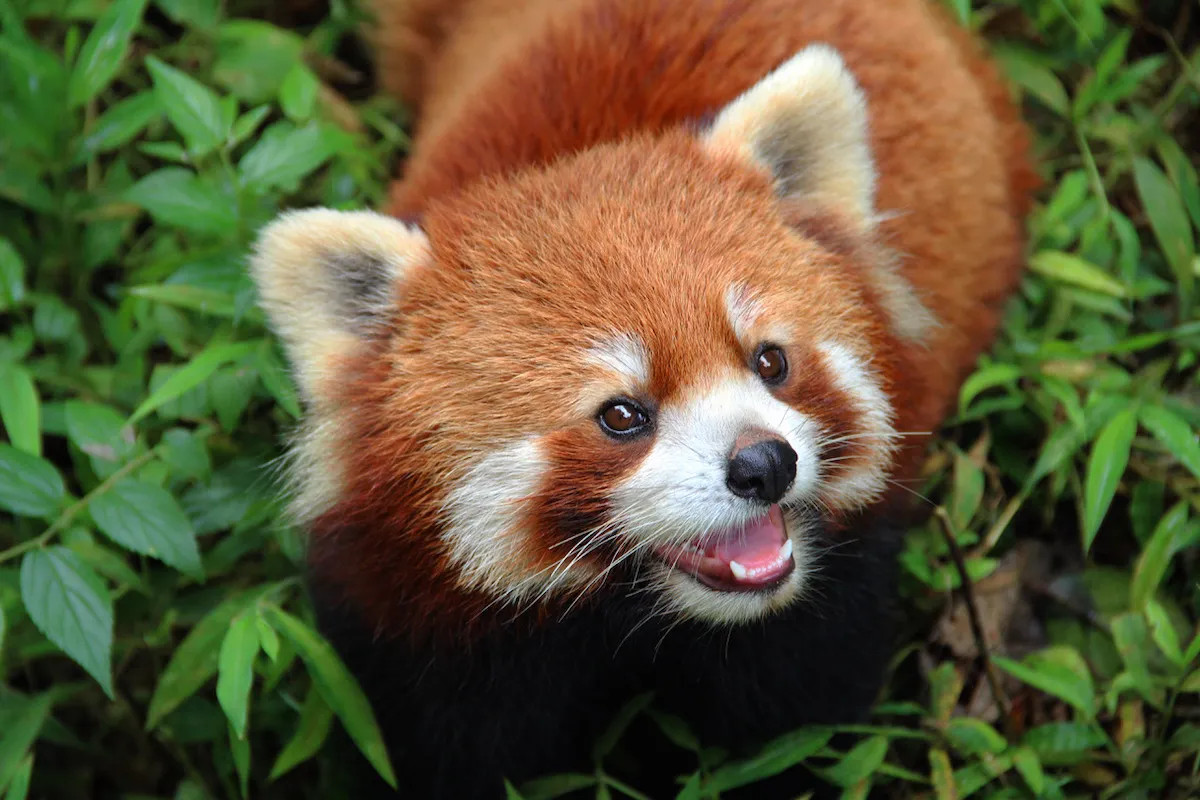Red panda: (238, 53, 910, 628)
